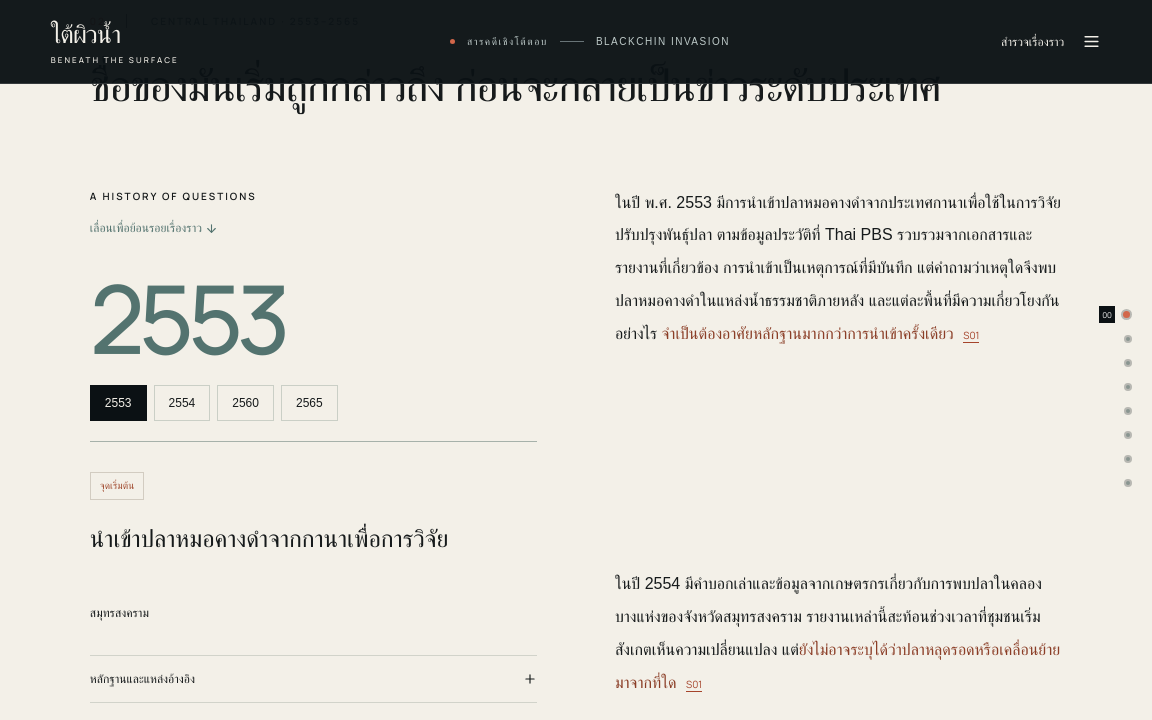
it: Documentary narrative and interactions › switches the central evidence timeline and fish observations
(page scrolled)
Click the button "2565" at x=309, y=403, box [281,385,338,421]
(page scrolled)
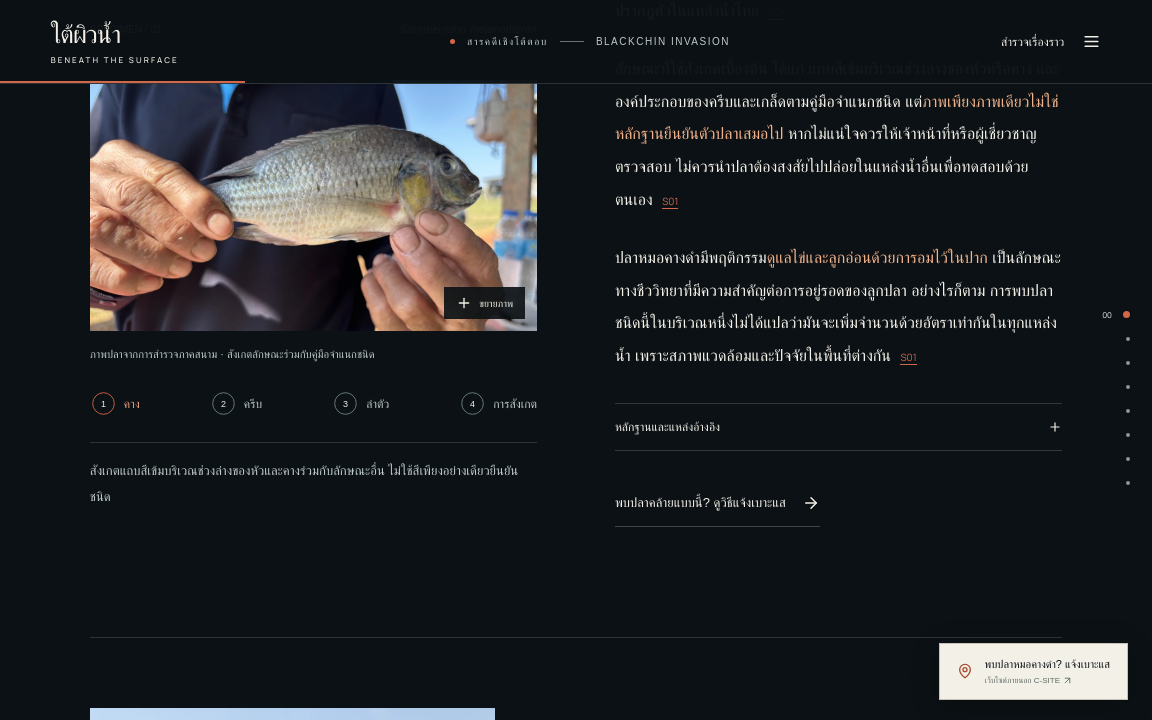
Click the button "3 ลำตัว" at x=361, y=403, box [332,385,389,422]
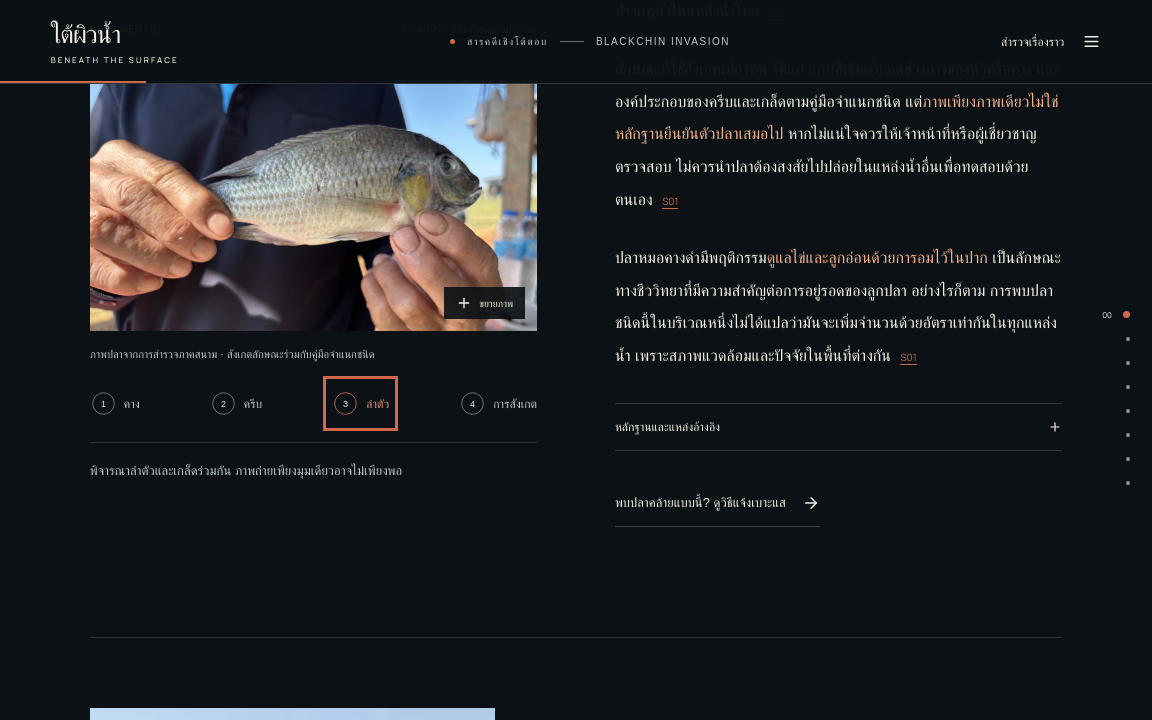
Result: the text with class "hotspot-note" shows "ภาพถ่ายเพียงมุมเดียว" at [90,463,402,478]
